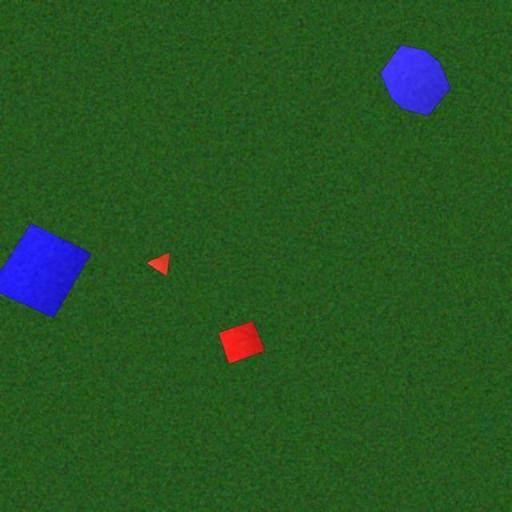BLUE_SQUARE: (0, 222, 92, 318)
RED_SQUARE: (218, 320, 266, 365)
